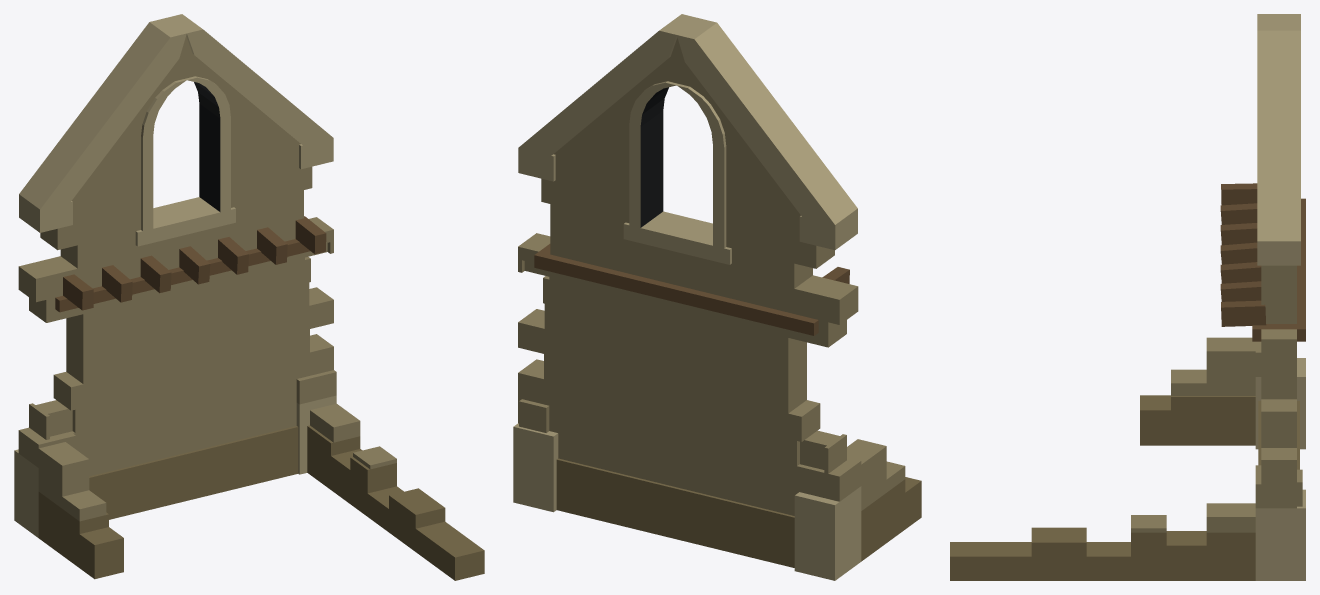
Rendered from ruined-gable-end-834895.glb.
3 views of the same model, side by side, from view 1: azimuth 30°, elevation 25°; view 2: azimuth 150°, elevation 25°; view 3: azimuth 270°, elevation 25° (orthographic). The views are drawn at different scales.
Visible parts, largest first — view 1: gable, joist-stubs; view 2: gable; view 3: gable, joist-stubs.
Boxes of the visible parts, left/top/right/bottom form: gable: left=14, top=14, right=484, bottom=580; joist-stubs: left=63, top=216, right=326, bottom=310; gable: left=513, top=14, right=921, bottom=580; gable: left=950, top=14, right=1305, bottom=580; joist-stubs: left=1220, top=183, right=1266, bottom=326.
Bounding box in the file's own units: 4 × 6 × 4.
